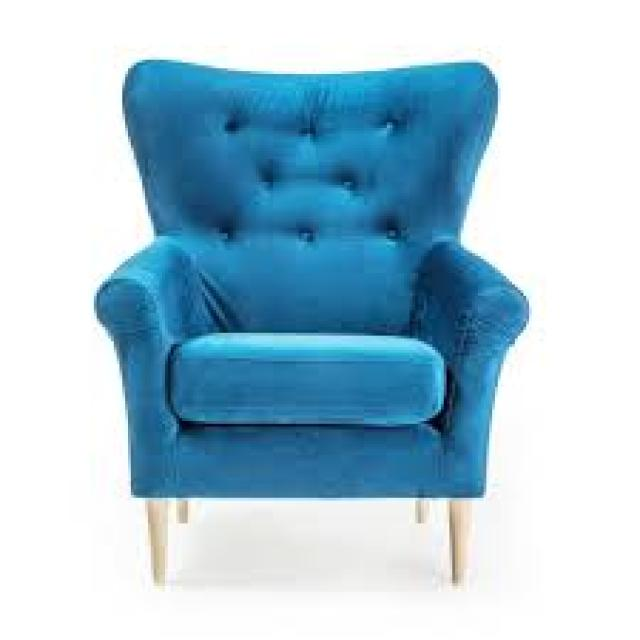chair: (59, 35, 562, 640)
